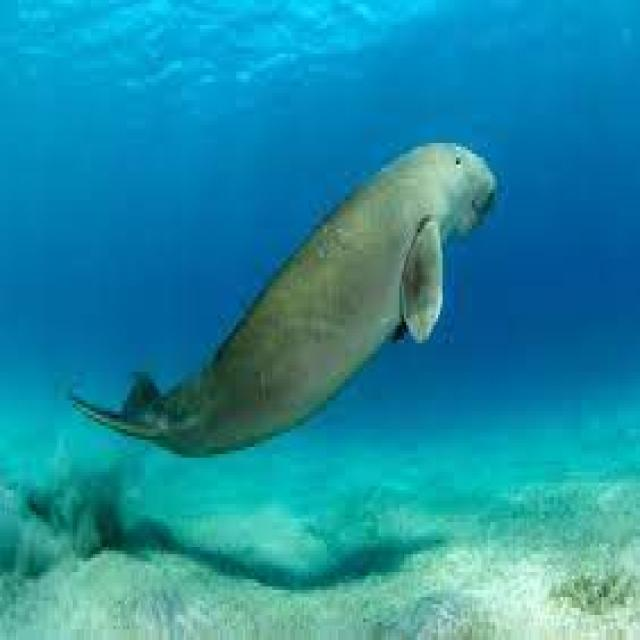Dugong -Endangered-: (70, 138, 496, 458)
